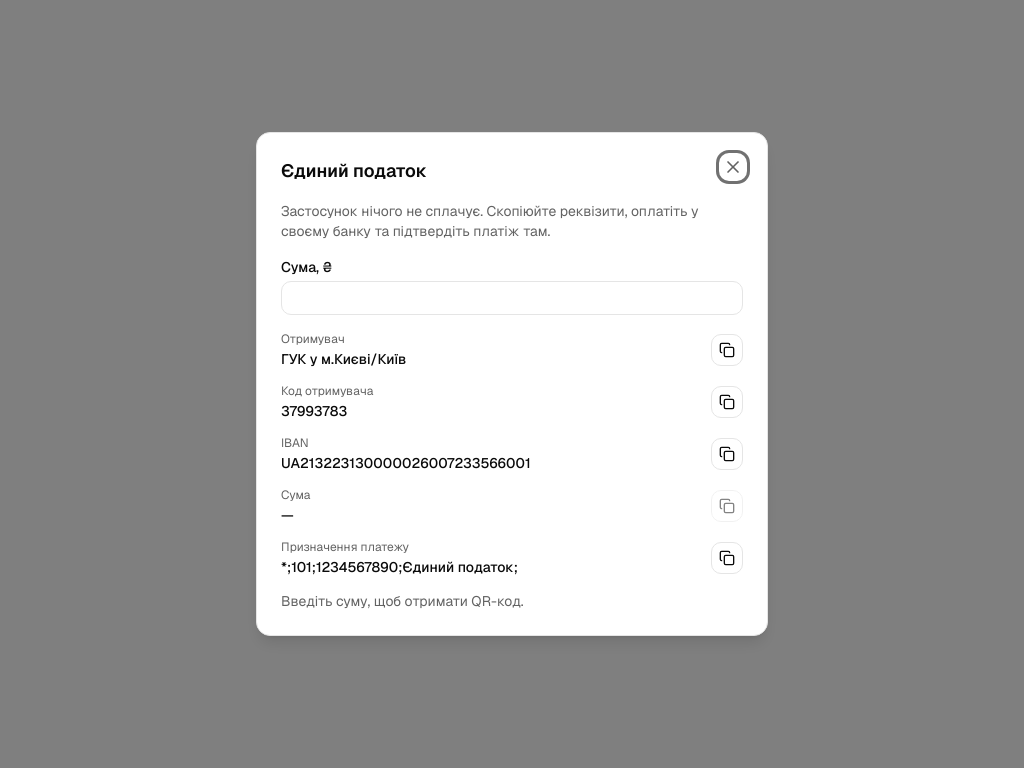
PayPanel › QR code states › shows no error on an empty amount the owner has not touched, in uk
Expected: the text "Введіть суму більше нуля, наприклад 1234,56." is not shown
Click the field labelled "Сума, ₴" at (512, 298), box top-left (281, 281), bottom-right (743, 315)
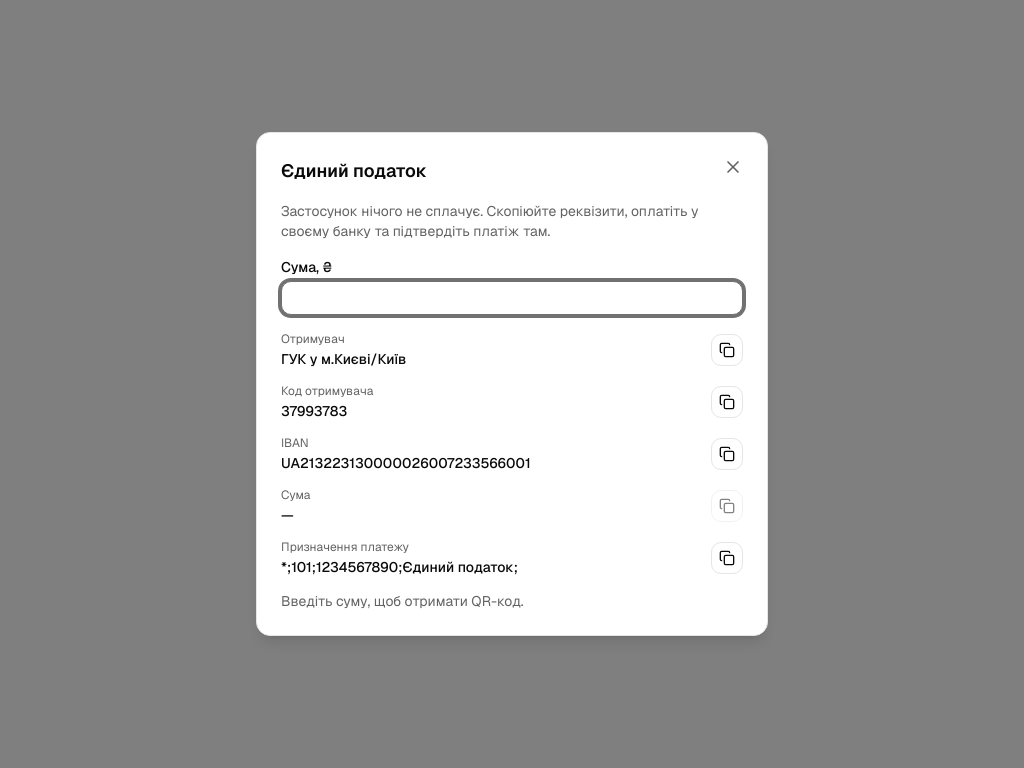
Press Tab
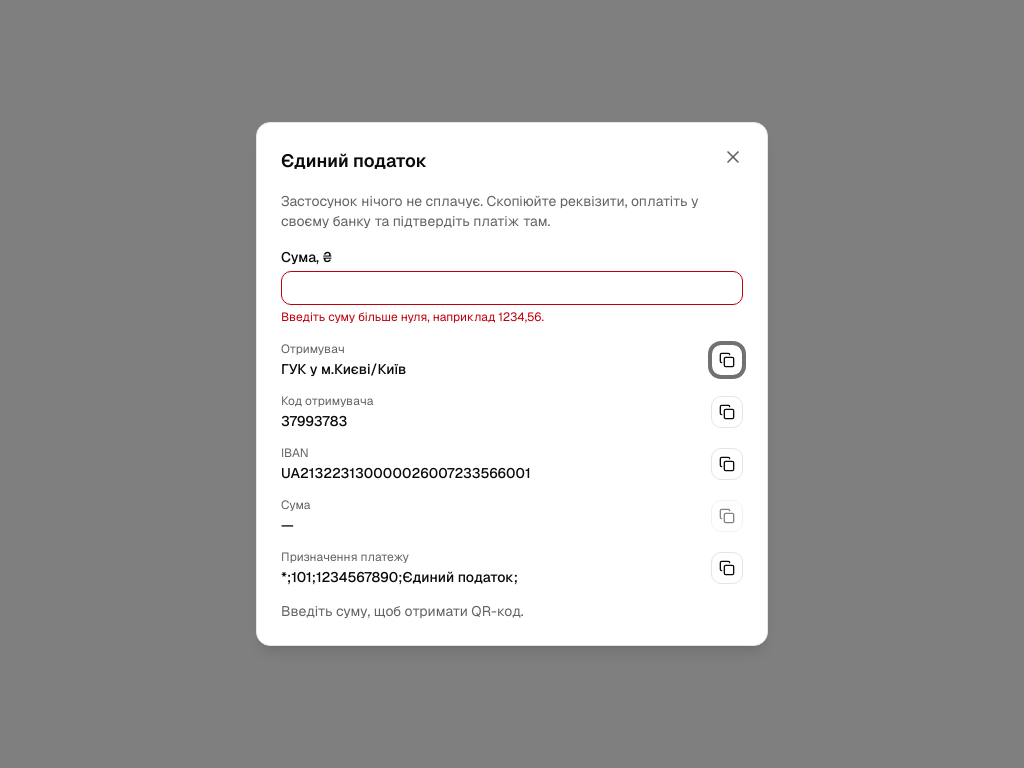
Result: the text "Введіть суму більше нуля, наприклад 1234,56." is shown at top-left (281, 309), bottom-right (544, 325)
